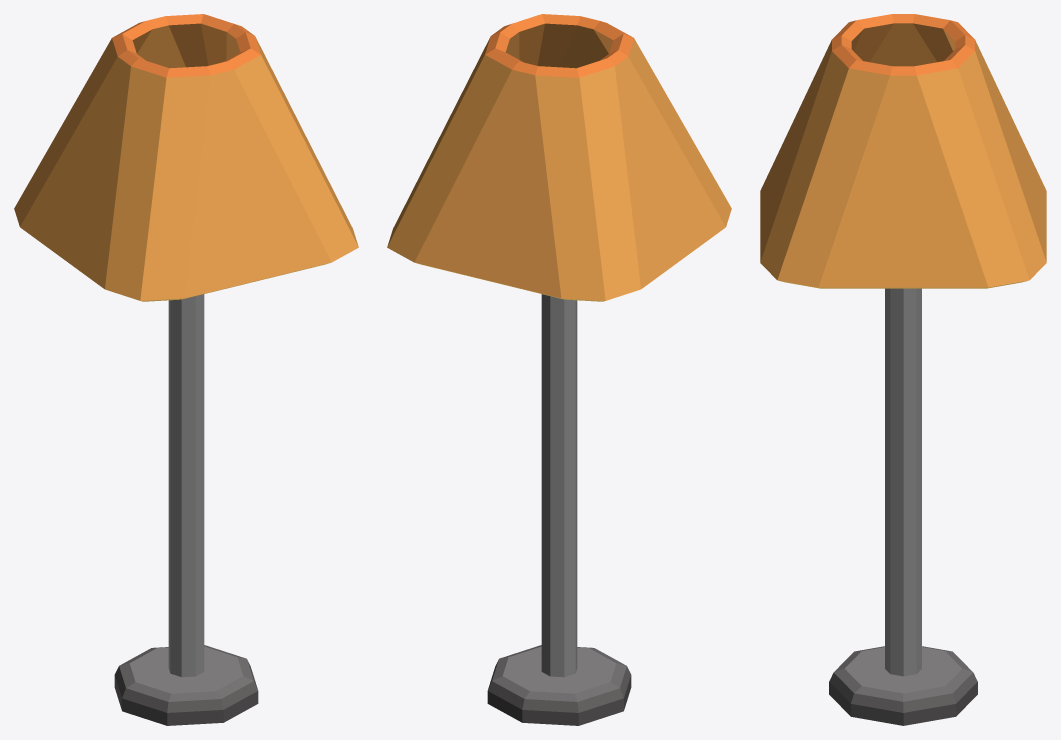
File: kk_lamp_standing.obj
3 views of the same model, side by side, from view 1: azimuth 30°, elevation 25°; view 2: azimuth 150°, elevation 25°; view 3: azimuth 270°, elevation 25° (orthographic).
Bounding box in the file's own units: 1 × 2.52 × 1.
